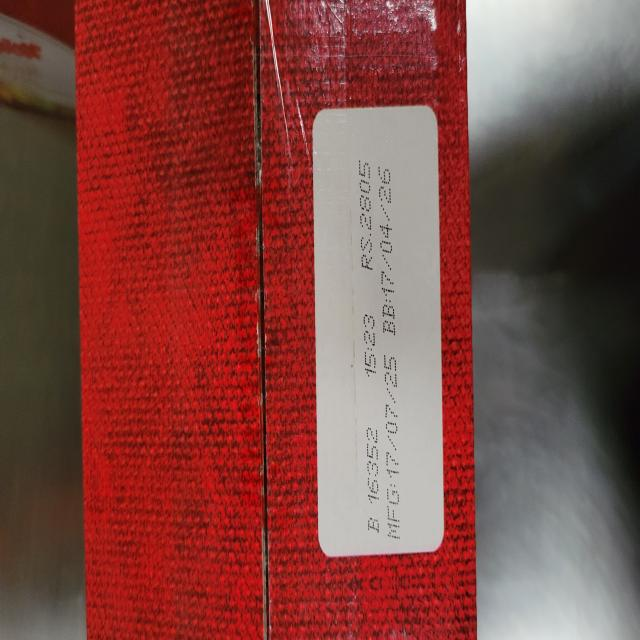BB: (376, 158, 402, 344)
Batch: (365, 415, 382, 539)
MFG: (381, 353, 406, 535)
RS: (358, 153, 374, 279)
TimeStamp: (363, 298, 378, 385)
